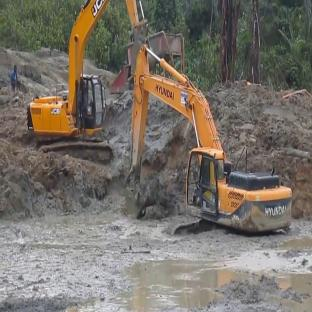ExcavationMachinery: (126, 33, 293, 248), (17, 0, 136, 167)
ProcessingEquipment: (118, 35, 192, 80)
